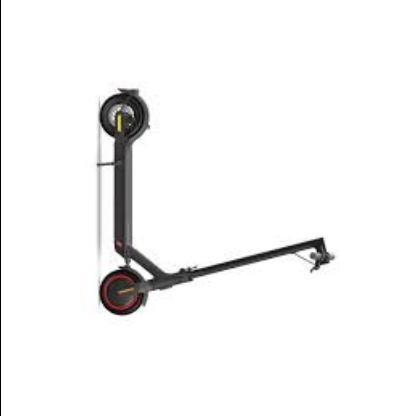bike: (95, 87, 335, 316)
